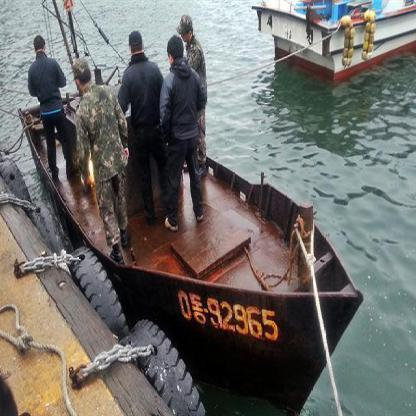fish-b: (6, 80, 366, 415)
